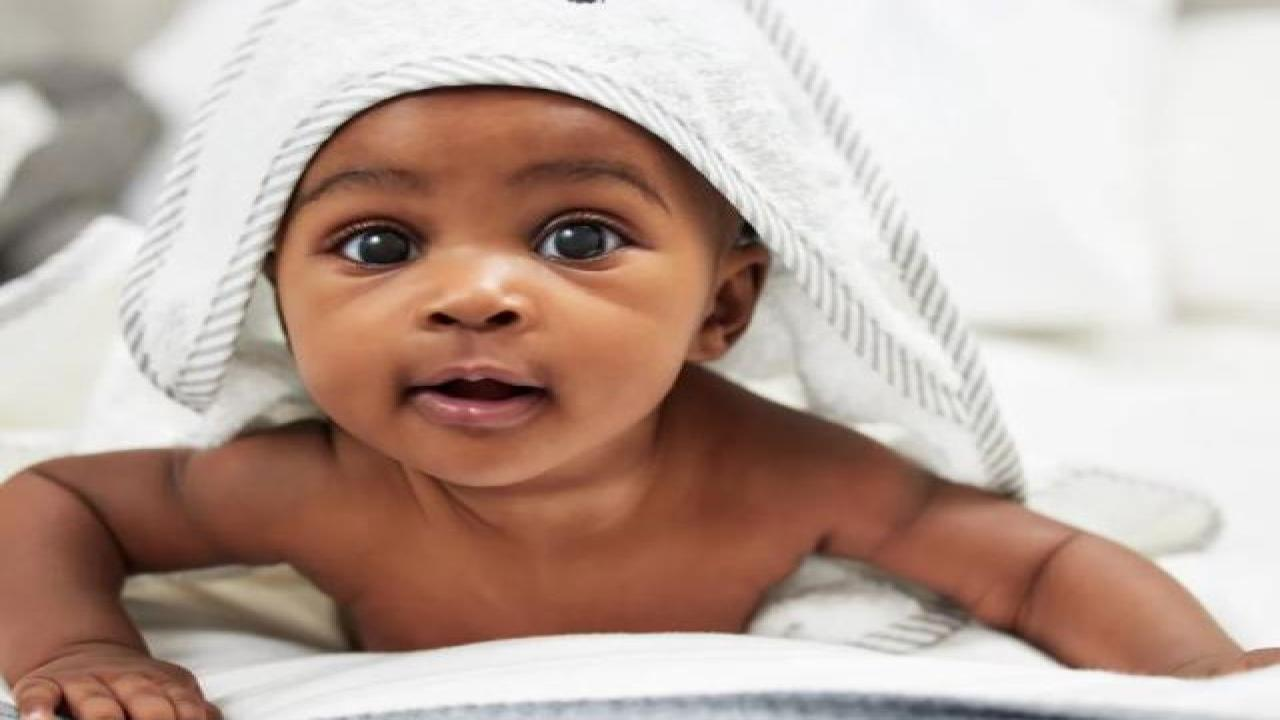hand: (0, 651, 226, 720)
